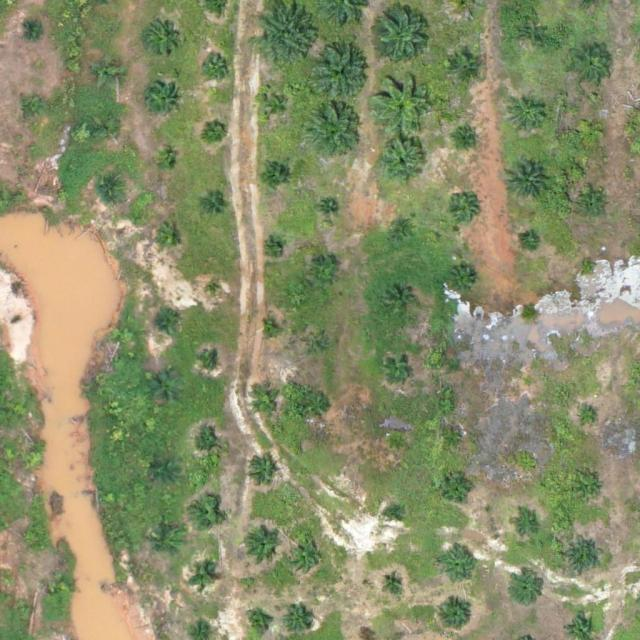Healthy: (257, 4, 320, 67), (371, 72, 433, 135), (375, 3, 430, 58), (308, 103, 363, 158), (315, 46, 370, 101)
Small: (376, 135, 431, 190), (504, 157, 551, 205), (436, 597, 475, 637), (286, 537, 325, 577), (572, 47, 611, 86), (509, 96, 548, 135), (565, 537, 604, 576), (439, 546, 478, 585), (144, 82, 183, 121), (512, 15, 551, 54), (245, 526, 284, 565), (305, 391, 336, 423), (511, 574, 542, 606), (443, 472, 474, 504), (146, 21, 177, 53), (576, 116, 607, 148), (251, 387, 282, 419), (155, 224, 186, 256), (94, 57, 125, 89), (451, 52, 482, 83), (580, 191, 611, 222), (193, 431, 224, 462), (192, 500, 223, 531), (248, 458, 279, 489), (285, 605, 316, 636), (448, 195, 479, 226), (450, 266, 481, 297), (385, 353, 416, 384), (385, 286, 416, 317), (390, 215, 421, 246), (310, 259, 341, 290), (260, 159, 291, 190), (152, 374, 183, 405), (261, 91, 292, 122), (202, 51, 233, 82), (153, 531, 184, 562), (513, 515, 537, 539), (191, 565, 215, 589), (246, 611, 270, 635), (12, 597, 36, 621), (19, 526, 43, 550), (22, 448, 46, 472), (154, 312, 178, 336), (579, 479, 602, 503), (383, 572, 406, 596), (53, 573, 76, 597), (385, 432, 409, 455), (307, 335, 331, 358), (156, 152, 180, 175), (154, 460, 177, 484), (25, 19, 49, 42), (98, 118, 122, 141), (206, 119, 229, 143), (444, 428, 467, 452), (204, 197, 227, 220), (99, 179, 122, 202), (22, 98, 45, 121), (522, 234, 538, 250), (580, 410, 596, 426), (580, 258, 596, 273), (387, 507, 402, 523), (322, 200, 337, 216), (267, 240, 282, 256), (262, 322, 278, 337), (207, 284, 223, 299), (460, 132, 476, 147), (522, 376, 537, 392), (204, 354, 219, 369)
